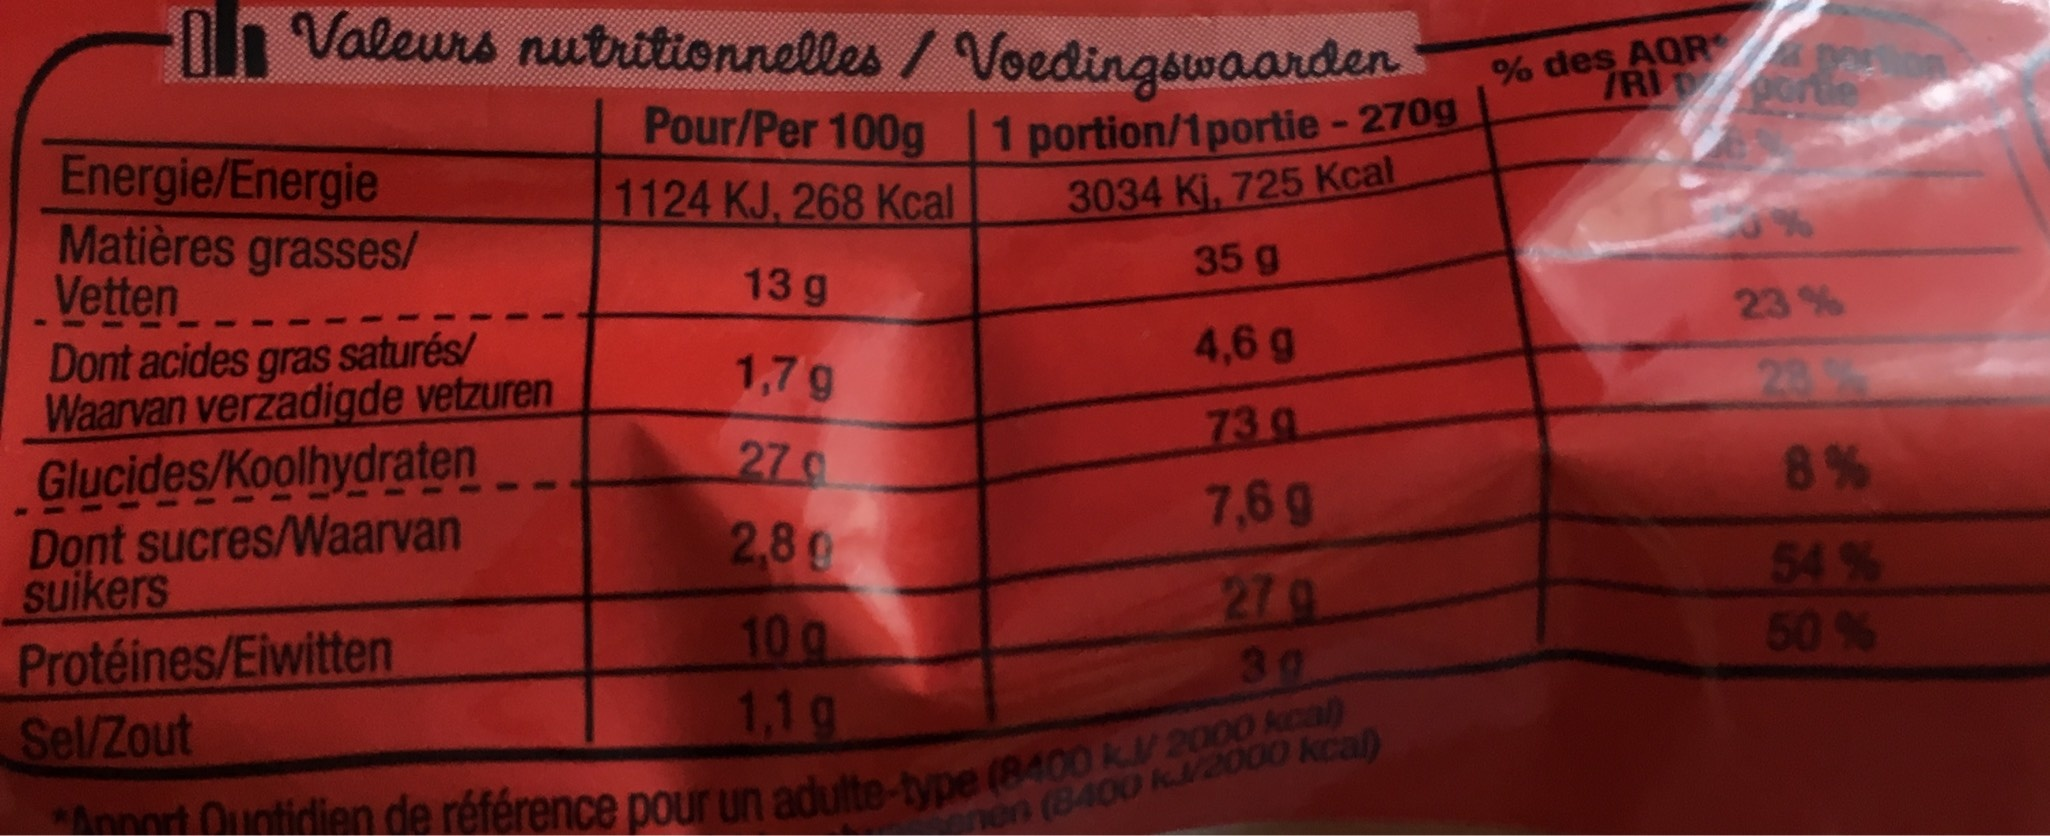column: (27, 128, 556, 765), (1492, 42, 1970, 655), (988, 98, 1458, 686), (618, 103, 957, 743)
table: (13, 20, 2050, 775)
